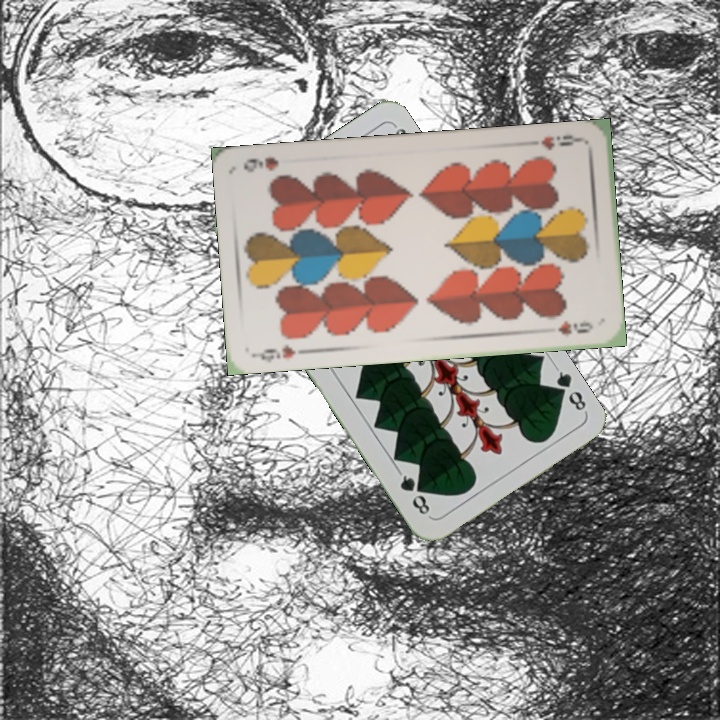G8: (547, 362, 589, 415)
H9: (251, 341, 298, 364), (537, 131, 585, 153)
